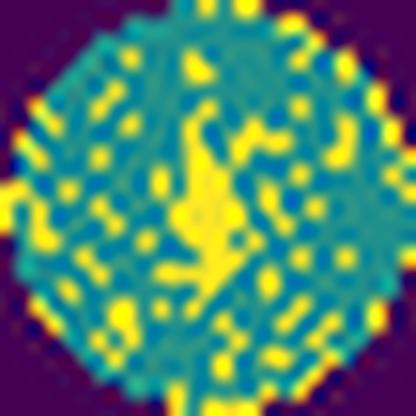Center: (150, 89, 296, 319)
